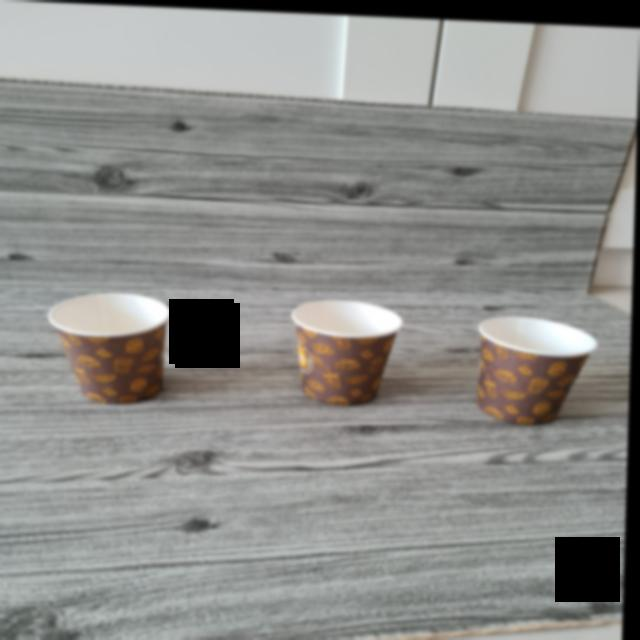cups: (45, 289, 196, 407), (470, 313, 605, 423), (298, 295, 403, 400)
